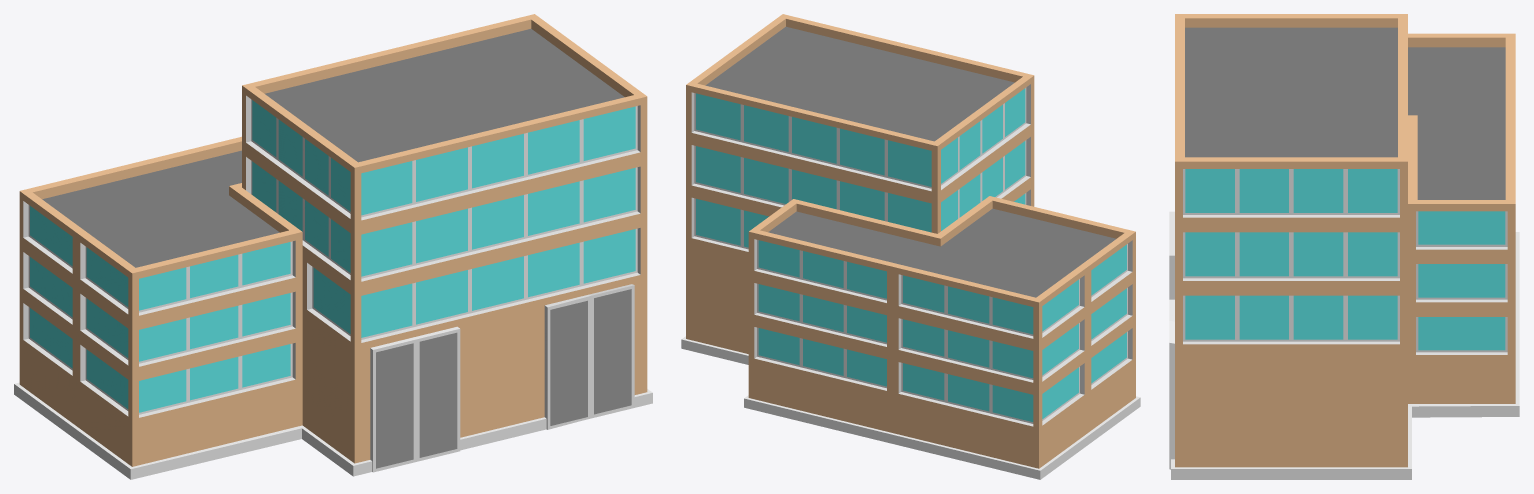
The model's file is SM_House_20_01.FBX.
3 views of the same model, side by side, from view 1: azimuth 30°, elevation 25°; view 2: azimuth 150°, elevation 25°; view 3: azimuth 270°, elevation 25° (orthographic). The views are drawn at different scales.
Visible parts, largest first — view 1: SM_House_20_01; view 2: SM_House_20_01; view 3: SM_House_20_01.
Part boxes in pixels (x1=…): SM_House_20_01: x1=14, y1=14, x2=652, y2=479; SM_House_20_01: x1=681, y1=14, x2=1140, y2=479; SM_House_20_01: x1=1169, y1=14, x2=1519, y2=479.
Bounding box in the file's own units: 9.63 × 6 × 6.02.
1 material, 1 textured.
